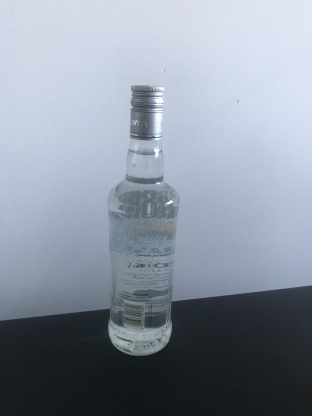nakretka: (129, 84, 164, 141)
